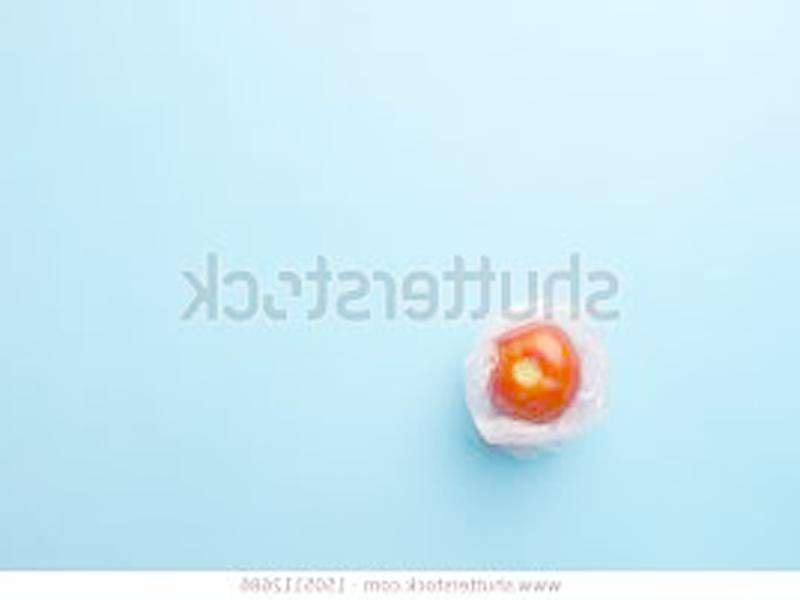Tomato: (486, 322, 578, 421)
